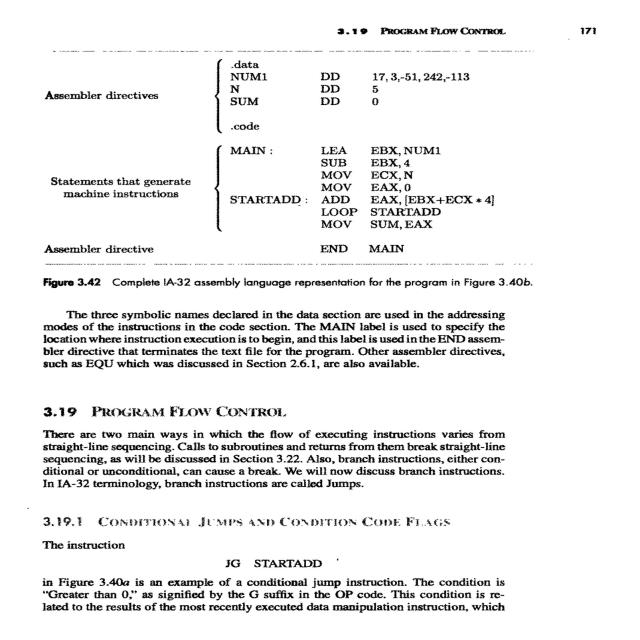diagram: (0, 61, 583, 300)
